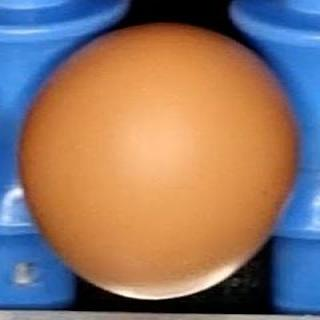Telur: (13, 21, 305, 302)
